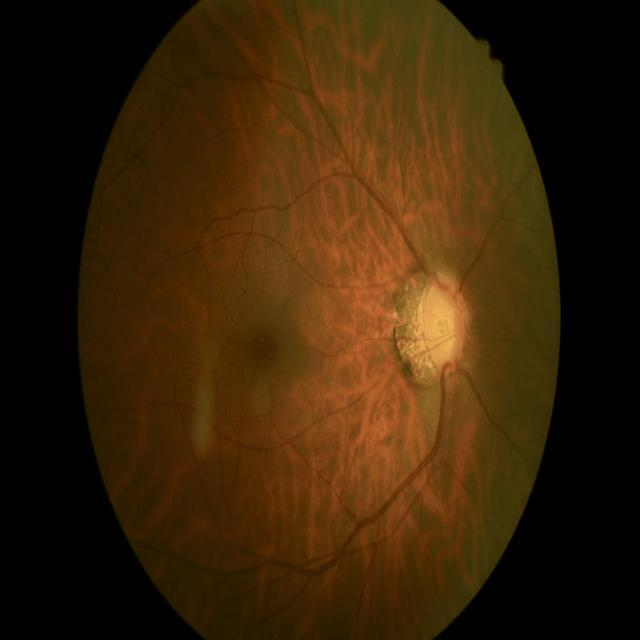cup: (430, 287, 455, 364)
disk: (421, 269, 468, 378)
